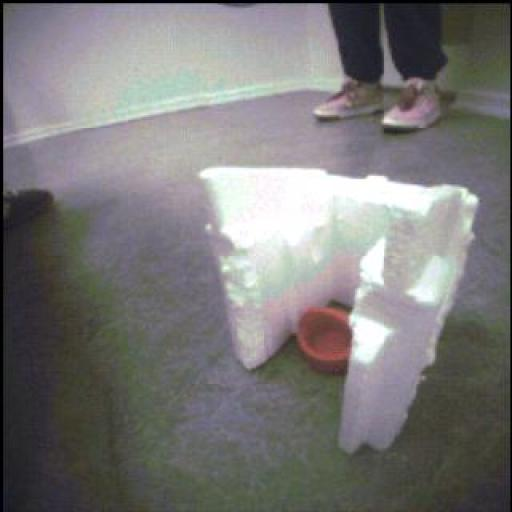Bucket: (294, 302, 357, 374)
